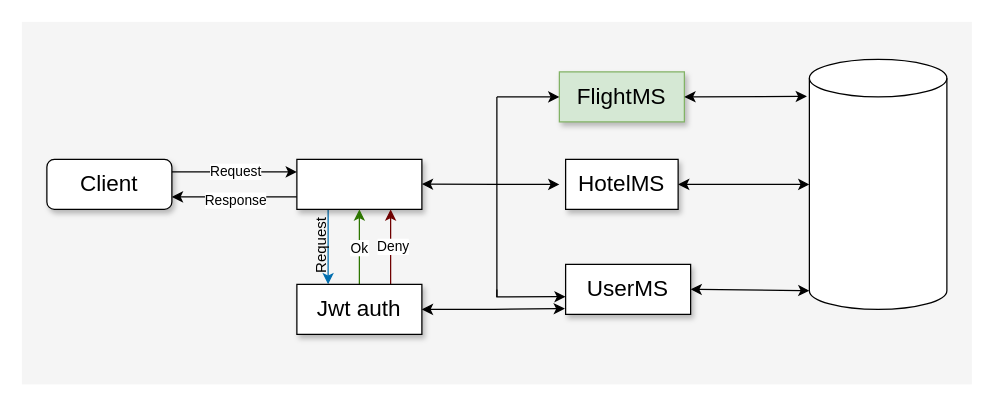
The diagram is 993 pixels wide and 405 high, and some of its shapes have lost their labels. The centre of each missing label's shape, as x and y in pixels:
DataBase: the point at 877,183
Gateway: the point at 360,185
